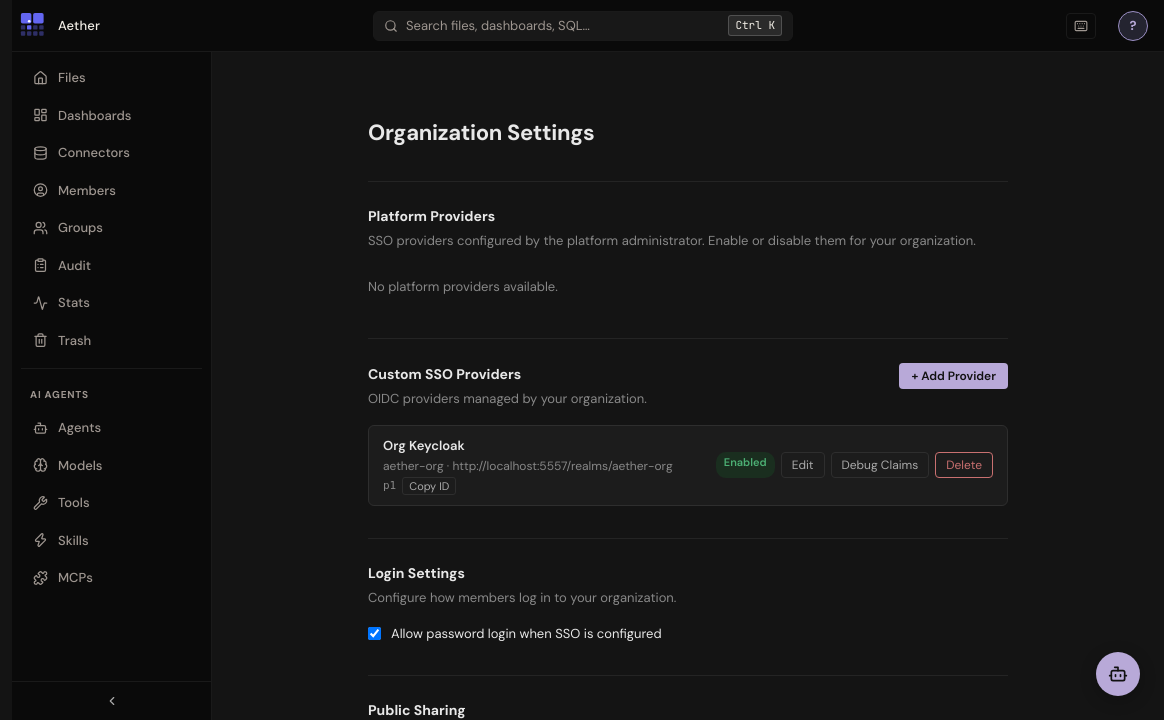
Test: shows the Debug Claims empty state before a capture exists
Step 1. Click the button "Debug Claims" → (880, 465), box [830,452,929,478]
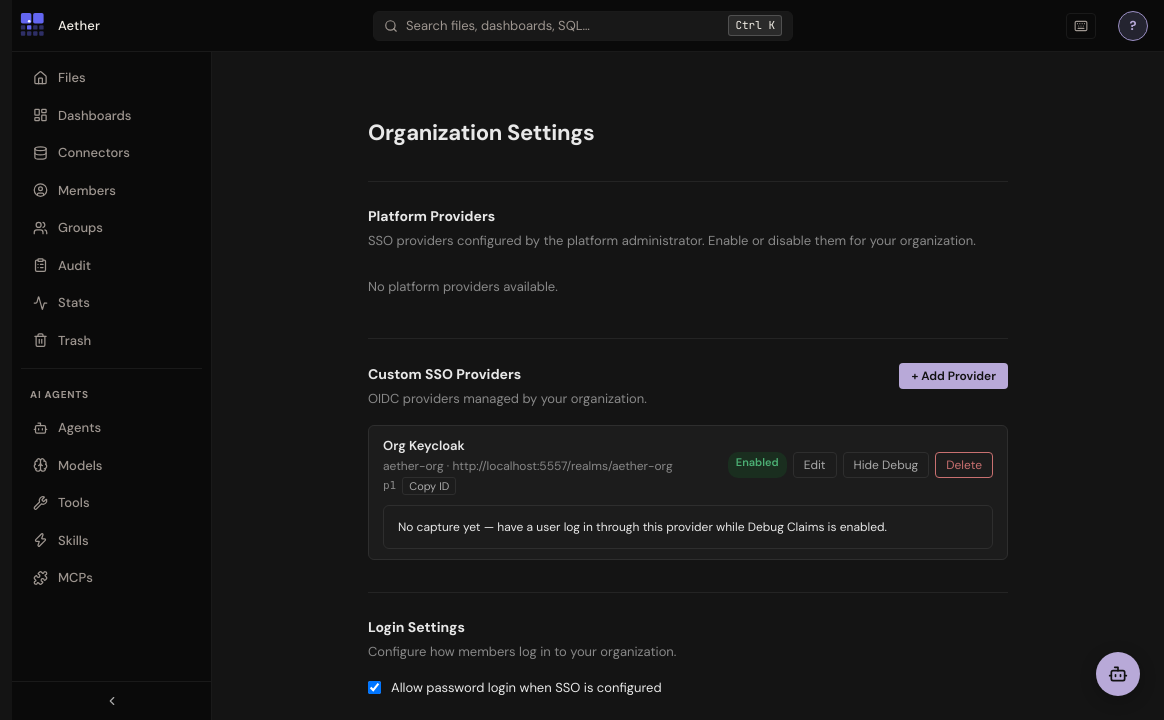
Expected: the text "No capture yet" is shown, [398,519,887,535]
